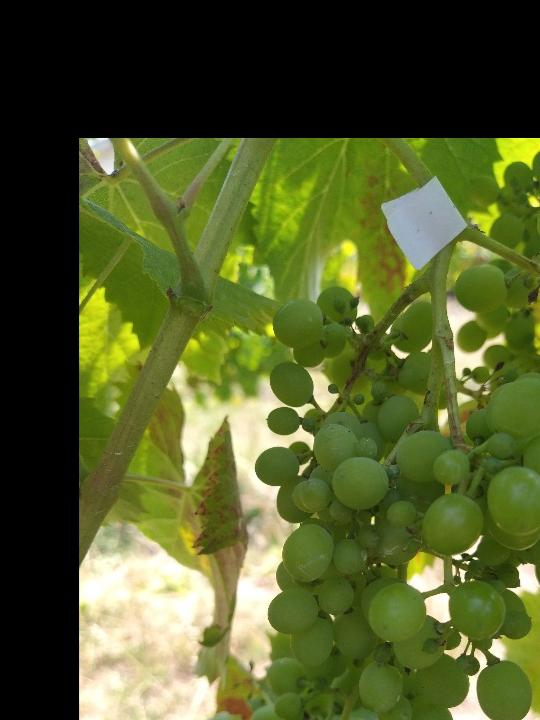grape: (243, 200, 540, 720)
